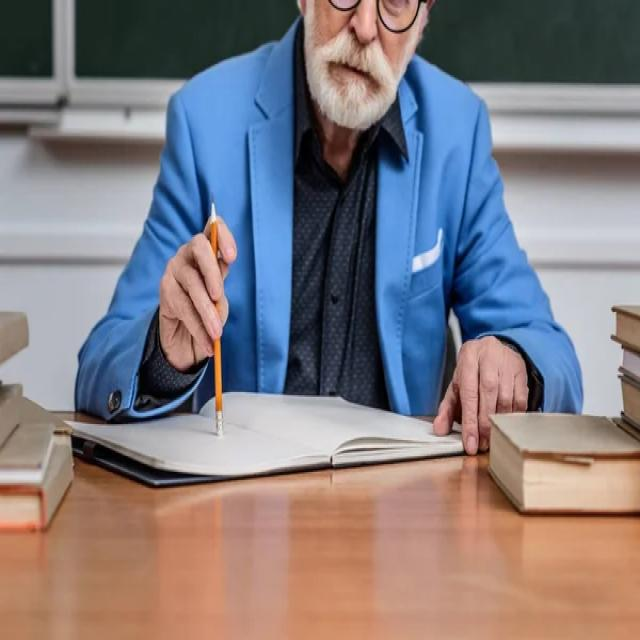pencil: (215, 335, 228, 442), (210, 194, 219, 259)
